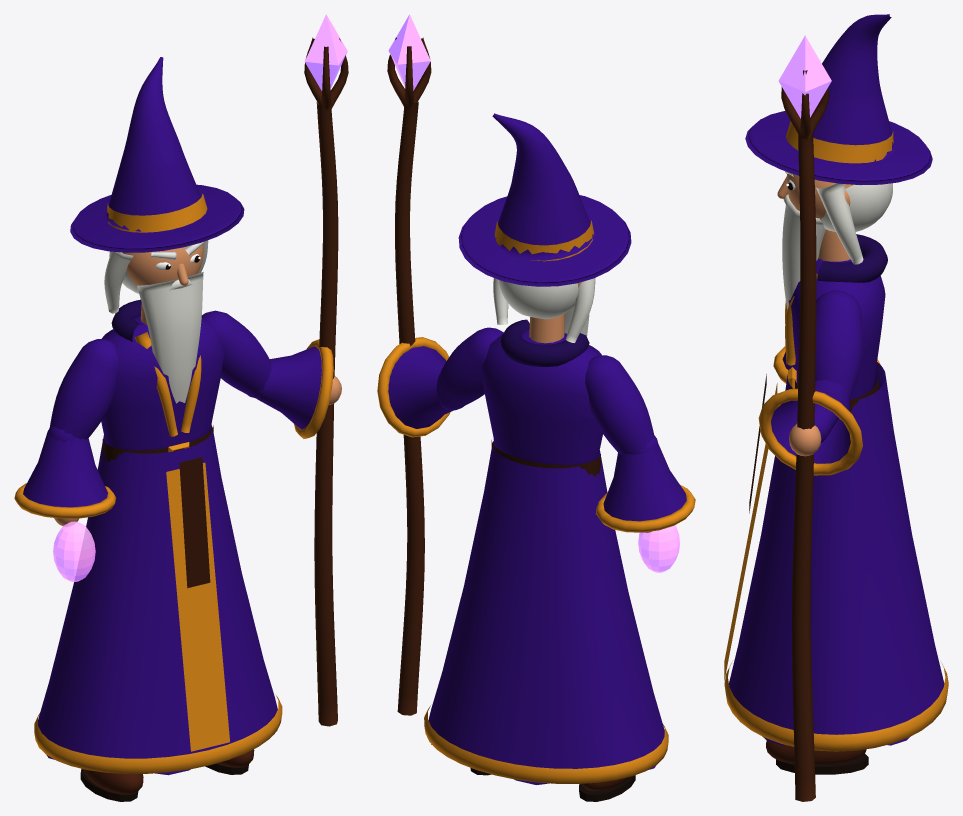
The model's file is mage.glb.
The picture shows the model from 3 angles, left to right: view 1: azimuth 30°, elevation 25°; view 2: azimuth 150°, elevation 25°; view 3: azimuth 270°, elevation 25°; orthographic projection. The views are drawn at different scales.
Visible parts, largest first — view 1: hips_robe, armR_lower_staff, robe_torso, hips_panel, head_hat, head_beard, head_hat_brim, armL_upper, armL_lower_sleeve, hips_robe_hem, armR_lower_sleeve, armR_upper (+13 smaller); view 2: hips_robe, robe_torso, armR_lower_staff, head_hat, head_hat_brim, armL_upper, armL_lower_sleeve, hips_robe_hem, armR_lower_sleeve, armR_upper, robe_collar, head_hair_back (+9 smaller); view 3: hips_robe, armR_lower_staff, head_hat, head_hat_brim, armR_upper, hips_robe_hem, robe_torso, armR_lower_cuff, armR_lower_sleeve, armR_lower_crystal, robe_collar, head_beard (+12 smaller).
Boxes of the visible parts, x1,y1,x2,y2 form: hips_robe: (38,425,277,775); armR_lower_staff: (314,102,338,726); robe_torso: (101,315,224,450); hips_panel: (166,462,229,751); head_hat: (106,57,201,231); head_beard: (137,272,203,403); head_hat_brim: (70,184,244,252); armL_upper: (49,339,118,439); armL_lower_sleeve: (23,430,107,507); hips_robe_hem: (34,694,282,773); armR_lower_sleeve: (257,346,321,429); armR_upper: (201,310,271,398); hips_robe: (428,440,664,784); robe_torso: (481,330,602,465); armR_lower_staff: (395,102,424,715); head_hat: (492,113,593,260); head_hat_brim: (458,195,631,286); armL_upper: (585,355,654,454); armL_lower_sleeve: (603,444,686,521); hips_robe_hem: (424,705,668,783); armR_lower_sleeve: (388,346,452,428); armR_upper: (436,327,503,410); robe_collar: (500,319,589,366); head_hair_back: (498,280,578,319); hips_robe: (729,362,944,745); armR_lower_staff: (792,133,816,801); head_hat: (813,14,894,161); head_hat_brim: (745,111,932,185); armR_upper: (815,290,862,399); hips_robe_hem: (724,662,948,751); robe_torso: (788,258,885,400); armR_lower_cuff: (758,388,862,475); armR_lower_sleeve: (771,380,850,463); armR_lower_crystal: (778,35,831,118); robe_collar: (817,234,887,282); head_beard: (782,195,825,309).
Bounding box in the file's own units: 2.74 × 6.02 × 1.57.
